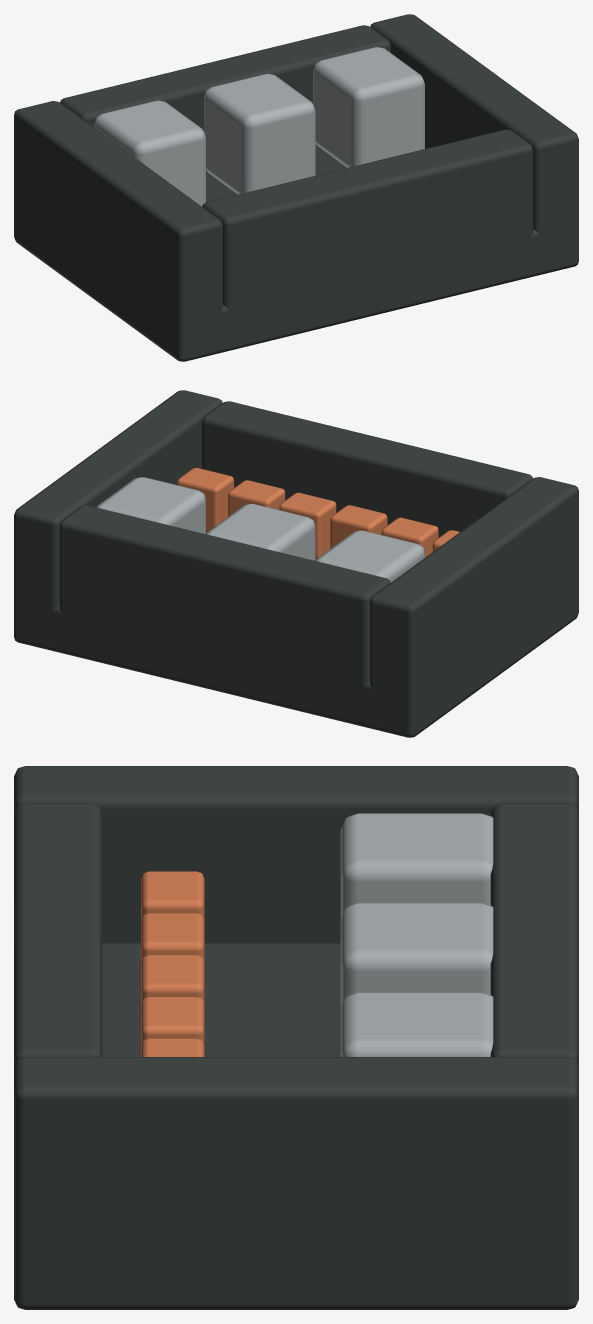
File: survivor-vehicle-maintenance-fuse-relay-box-57c0d3ef__26652.glb
3 renders of one model, top to bottom at view 1: azimuth 30°, elevation 25°; view 2: azimuth 150°, elevation 25°; view 3: azimuth 270°, elevation 25°, orthographic. The views are drawn at different scales.
Parts seen in each view (by area): view 1: fuse-relay-box; view 2: fuse-relay-box; view 3: fuse-relay-box.
Boxes of the visible parts, x1,y1,x2,y2 form: fuse-relay-box: (14, 14, 578, 361); fuse-relay-box: (14, 390, 578, 737); fuse-relay-box: (14, 766, 578, 1309).
Size of the model in its own units: 0.22 by 0.07 by 0.16.
